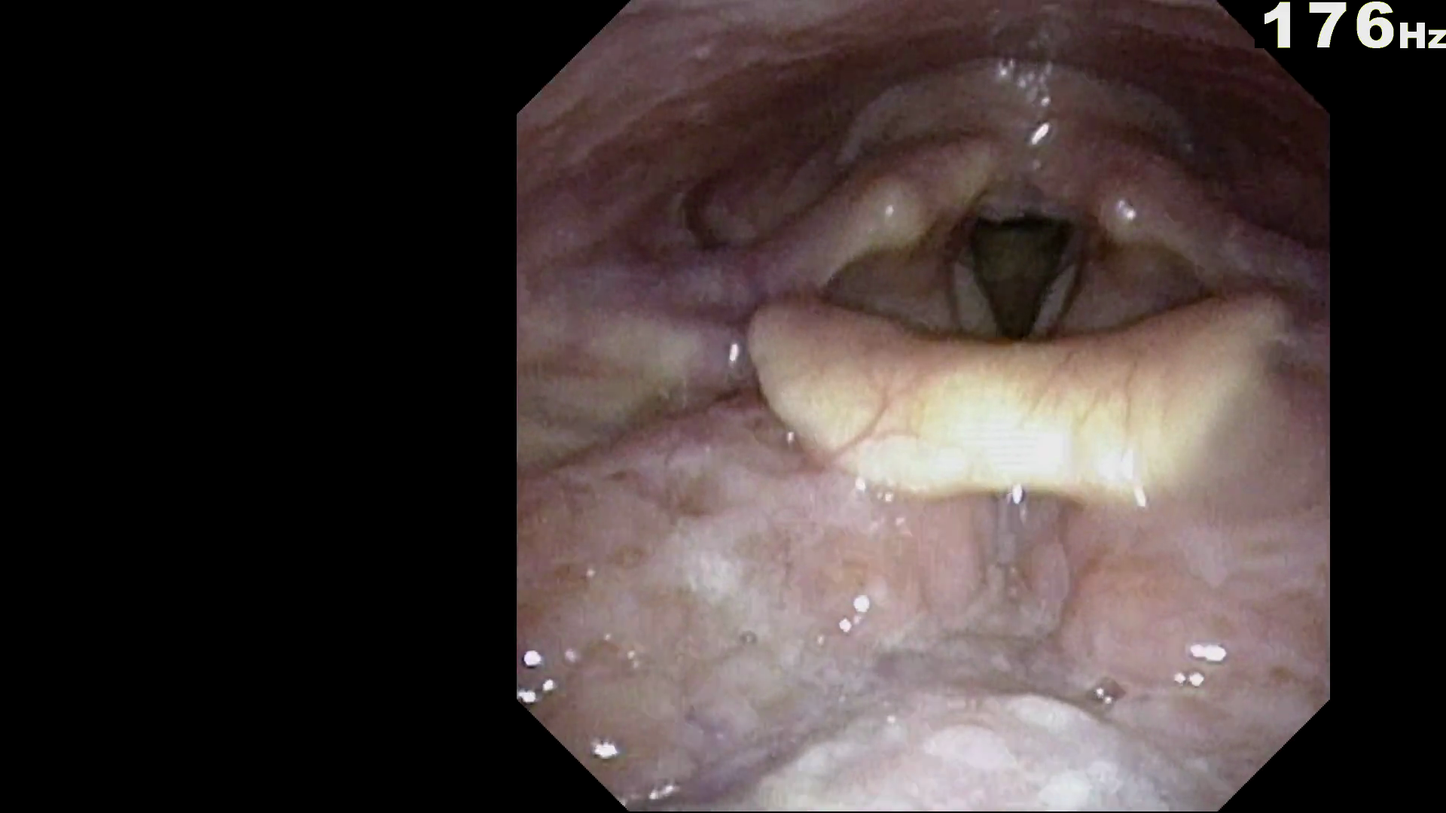epiglottis: (726, 232, 1316, 516)
trachea: (950, 198, 1096, 353)
